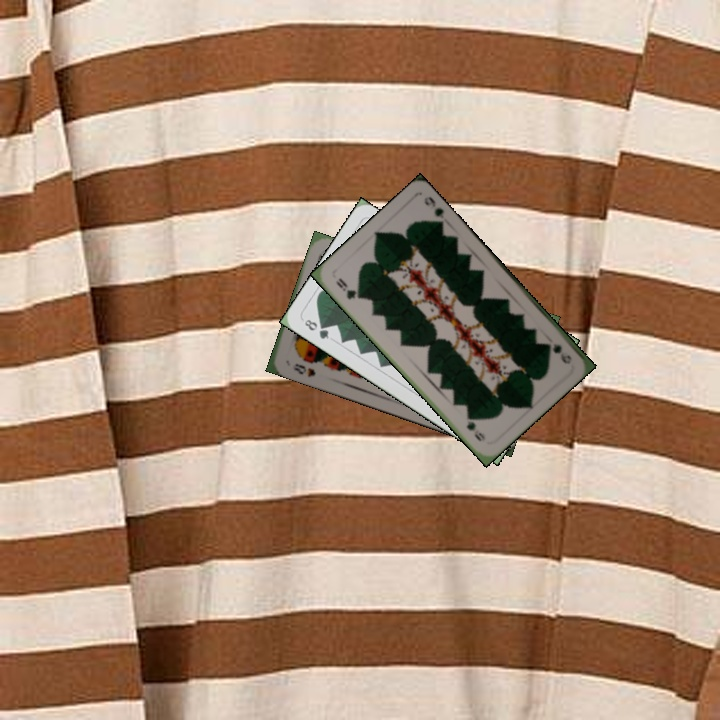G8: (300, 315, 332, 342)
G9: (542, 338, 575, 366), (331, 274, 362, 302)
S8: (289, 359, 318, 379)
